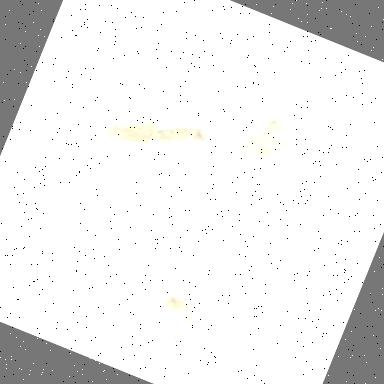abw: (144, 286, 219, 364), (234, 108, 304, 176), (139, 110, 212, 172), (97, 101, 173, 160)
